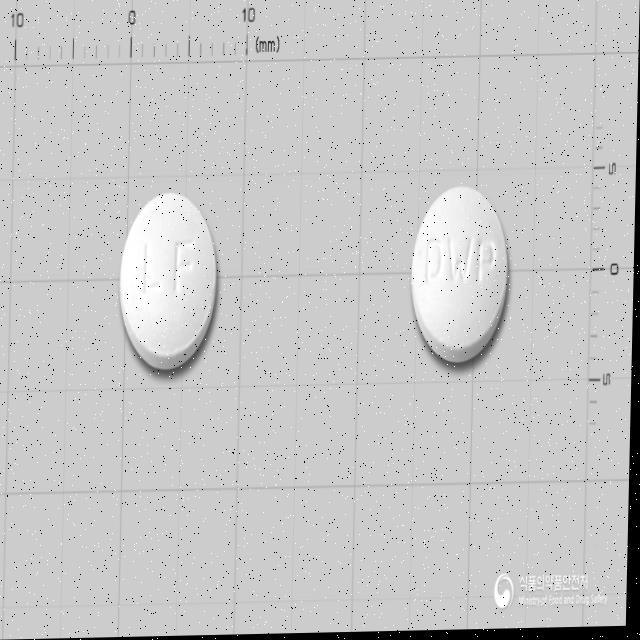Lefloxin: (119, 191, 220, 372), (411, 186, 510, 367)
